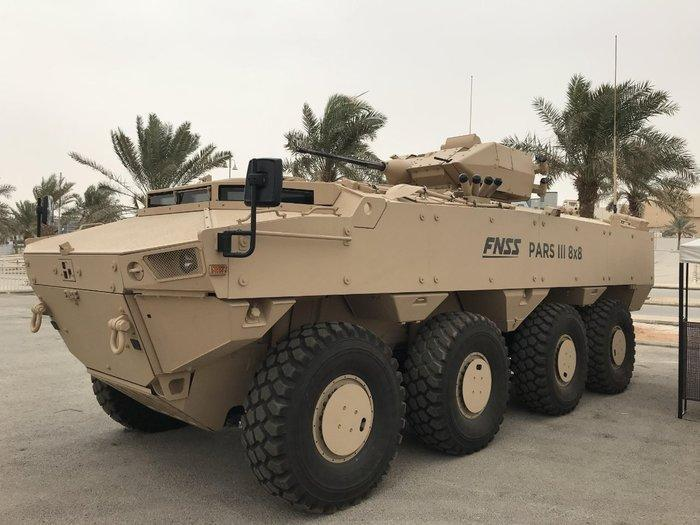MIL_IFV: (20, 128, 658, 512)
